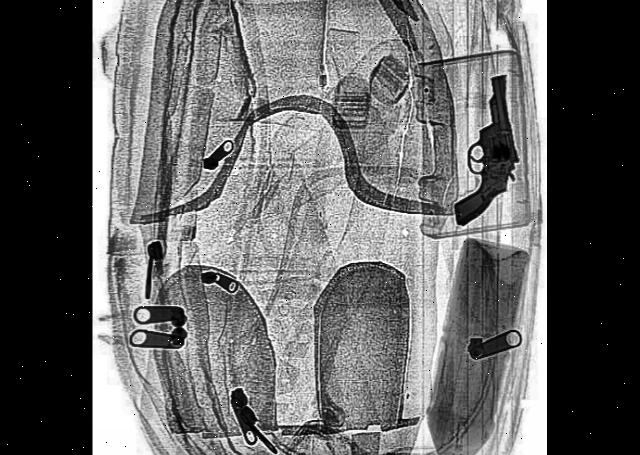Gun: (436, 76, 520, 232)
